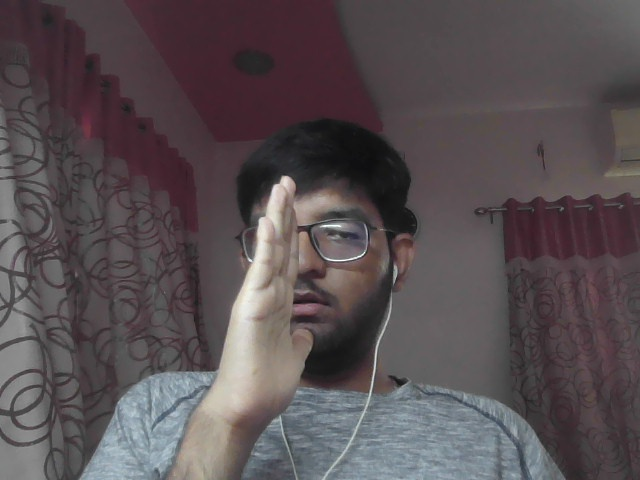માતા: (180, 168, 341, 439)
